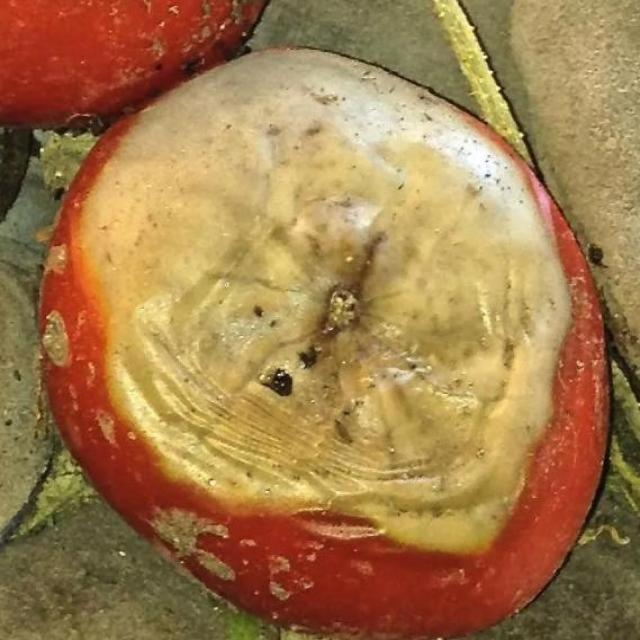Sunscald Fruit: (49, 32, 378, 372)
